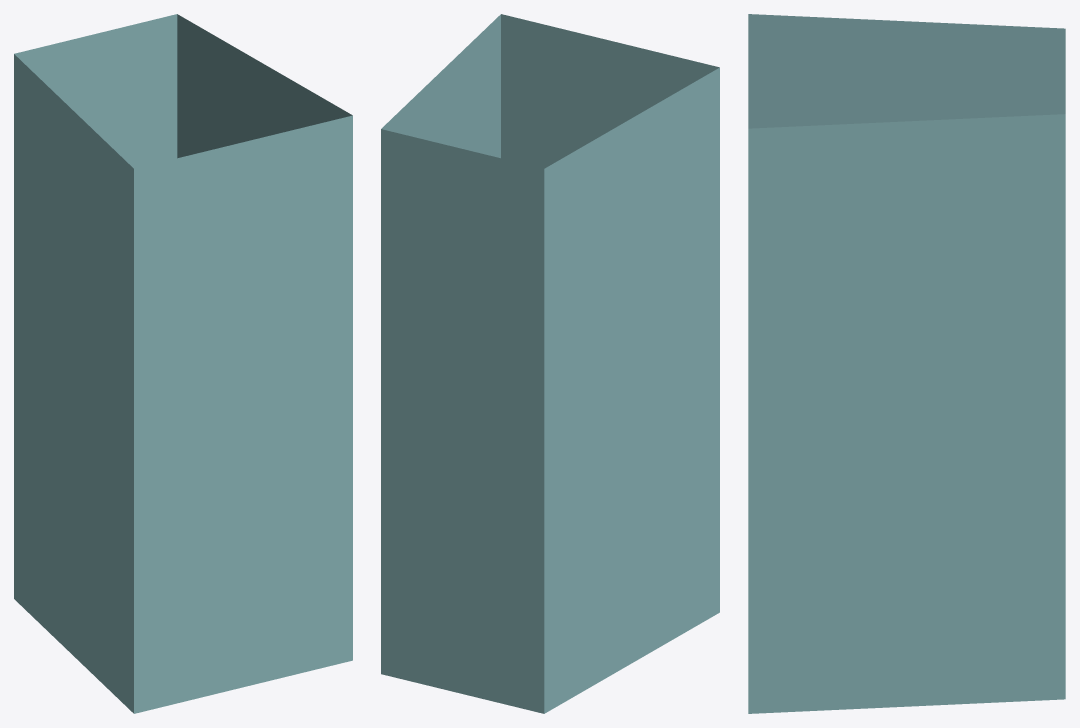
Rendered from Itr_Obj_Speaker3_Base_06.FBX.
The picture shows the model from 3 angles, left to right: view 1: azimuth 30°, elevation 25°; view 2: azimuth 150°, elevation 25°; view 3: azimuth 270°, elevation 25°; orthographic projection. The views are drawn at different scales.
Parts seen in each view (by area): view 1: Itr_Obj_Speaker3_Base_06; view 2: Itr_Obj_Speaker3_Base_06; view 3: Itr_Obj_Speaker3_Base_06.
Part boxes in pixels (x1,y1,x2,y2): Itr_Obj_Speaker3_Base_06: (14,14,352,713); Itr_Obj_Speaker3_Base_06: (381,14,719,713); Itr_Obj_Speaker3_Base_06: (748,14,1065,713).
Size of the model in its own units: 9.88 by 23.51 by 11.56.
